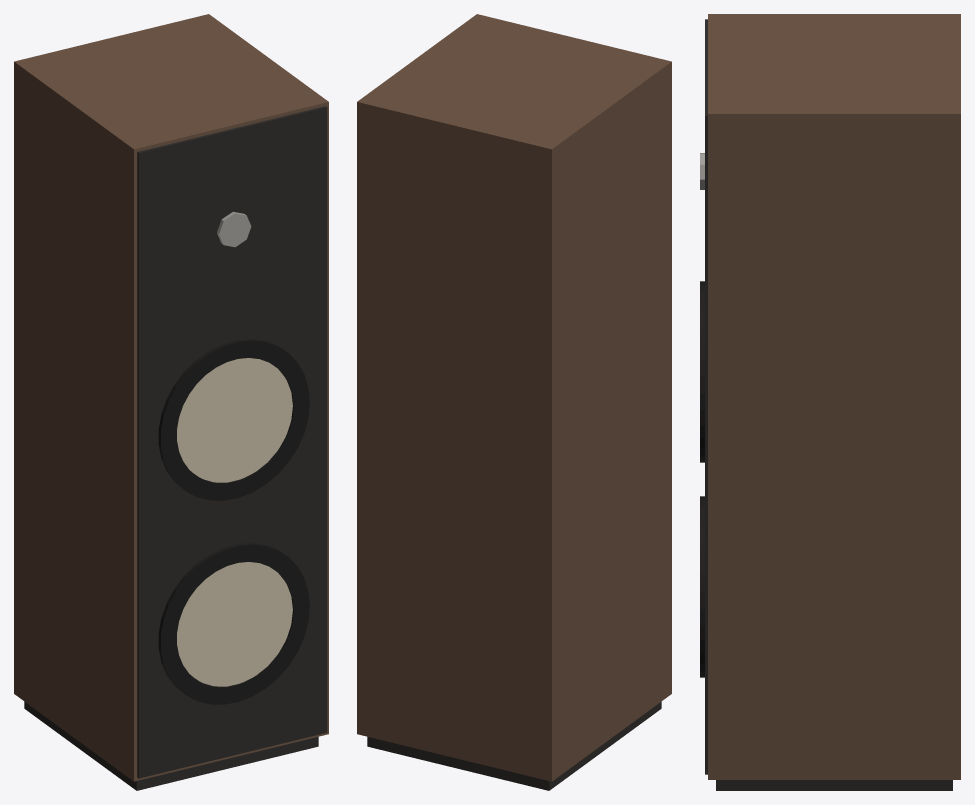
The model's file is floor-speaker.glb.
3 renders of one model, left to right at view 1: azimuth 30°, elevation 25°; view 2: azimuth 150°, elevation 25°; view 3: azimuth 270°, elevation 25°, orthographic. The views are drawn at different scales.
Visible parts, largest first — view 1: wood, plastic-dark, paper, rubber, brushed; view 2: wood, plastic-dark; view 3: wood, plastic-dark, rubber.
Part boxes in pixels (left/top/right/bottom): wood: left=14, top=14, right=328, bottom=781; plastic-dark: left=24, top=106, right=327, bottom=790; paper: left=177, top=358, right=292, bottom=686; rubber: left=158, top=339, right=309, bottom=704; brushed: left=217, top=211, right=251, bottom=247; wood: left=357, top=14, right=671, bottom=781; plastic-dark: left=367, top=701, right=661, bottom=790; wood: left=708, top=14, right=960, bottom=779; plastic-dark: left=705, top=19, right=952, bottom=790; rubber: left=700, top=281, right=704, bottom=677.
Bounding box in the file's own units: 0.3 × 0.95 × 0.33.
